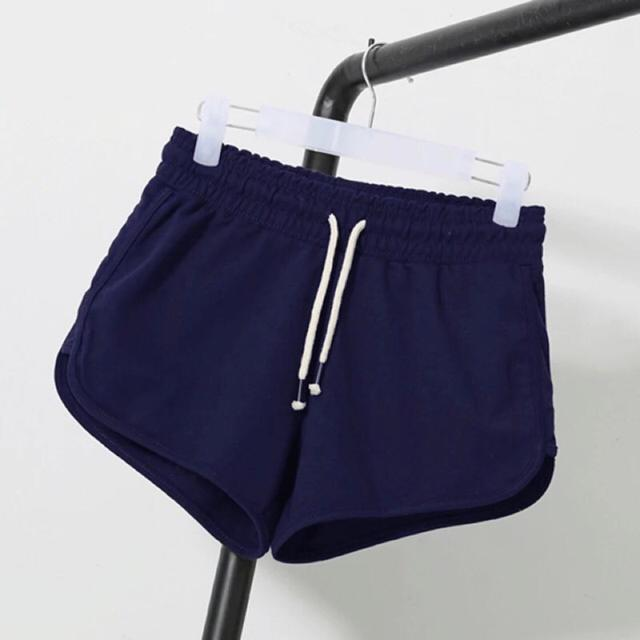Shorts: (47, 124, 554, 566)
